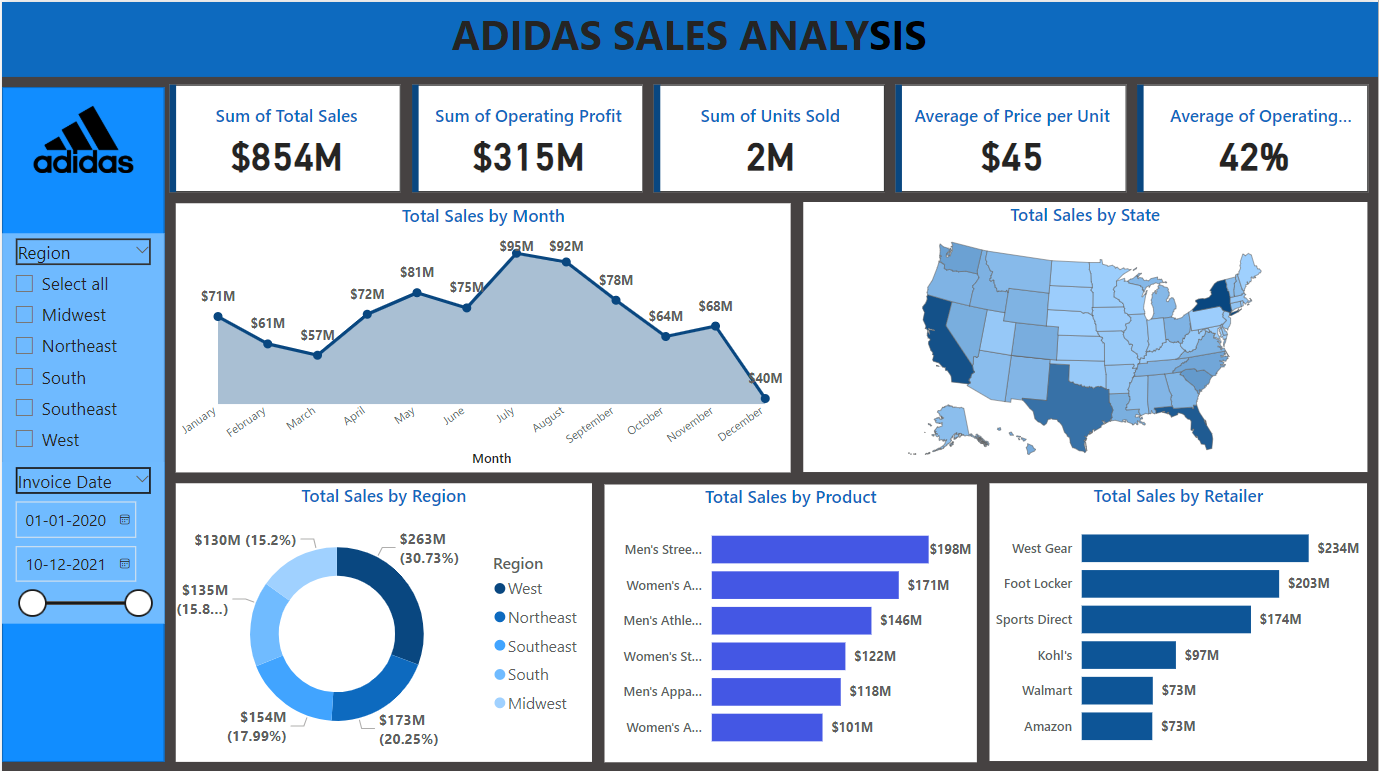

The page's visual inventory and layout, read from the dashboard file:
{"tool":"powerbi","page":{"name":"Page 1","canvas":[1280,720],"ordinal":0},"visuals":[{"type":"shape","box":[0,0,1280.5,69.5],"z":0},{"type":"shape","box":[0,79.1,151.2,627.9],"z":1000},{"type":"textbox","box":[406.1,0,467.1,70.7],"z":2000},{"type":"image","box":[7,91.9,137.2,72.1],"z":3000},{"type":"cardVisual","fields":{"Data":["Sum(Data Sales Adidas.Total Sales)","Sum(Data Sales Adidas.Operating Profit)","Sum(Data Sales Adidas.Units Sold)","Avg(Data Sales Adidas.Price per Unit)","Avg(Data Sales Adidas.Operating Margin)"]},"box":[151.2,72.1,1129.1,110.5],"z":4000},{"type":"areaChart","title":"Total Sales by Month","fields":{"Y":["Sum(Data Sales Adidas.Total Sales)"],"Category":["Data Sales Adidas.Invoice Date.Variation.Date Hierarchy.Month"]},"box":[161.6,187.2,572.1,250],"z":5000},{"type":"shapeMap","title":"Total Sales by State","fields":{"Category":["Data Sales Adidas.State"],"Value":["Sum(Data Sales Adidas.Total Sales)"]},"box":[745.4,186,524.4,251.2],"z":6000},{"type":"donutChart","title":"Total Sales by Region","fields":{"Category":["Data Sales Adidas.Region"],"Y":["Sum(Data Sales Adidas.Total Sales)"]},"box":[161.6,447.7,387.2,259.3],"z":7000},{"type":"clusteredBarChart","title":"Total Sales by Product","fields":{"Y":["Sum(Data Sales Adidas.Total Sales)"],"Category":["Data Sales Adidas.Product"]},"box":[560.5,449.3,346.5,258.1],"z":8000},{"type":"clusteredBarChart","title":"Total Sales by Retailer","fields":{"Y":["Sum(Data Sales Adidas.Total Sales)"],"Category":["Data Sales Adidas.Retailer"]},"box":[918.6,448.1,351.2,258.1],"z":9000},{"type":"slicer","fields":{"Values":["Data Sales Adidas.Region"]},"box":[0,215.1,151.2,212.8],"z":10000},{"type":"slicer","fields":{"Values":["Data Sales Adidas.Invoice Date"]},"box":[0,427.9,151.2,150],"z":11000}]}

Visuals, with their boxes in screenshot pixels (x1, y1, x2, y2), scaled from the page's 1280x720 canvas onto the 1380x771 screenshot:
shape: [x1=0, y1=0, x2=1379, y2=74]
shape: [x1=0, y1=85, x2=163, y2=757]
textbox: [x1=438, y1=0, x2=941, y2=76]
image: [x1=8, y1=98, x2=155, y2=176]
cardVisual - Sum(Data Sales Adidas.Total Sales) x Sum(Data Sales Adidas.Operating Profit): [x1=163, y1=77, x2=1379, y2=196]
"Total Sales by Month" areaChart: [x1=174, y1=200, x2=791, y2=468]
"Total Sales by State" shapeMap: [x1=804, y1=199, x2=1369, y2=468]
"Total Sales by Region" donutChart: [x1=174, y1=479, x2=592, y2=757]
"Total Sales by Product" clusteredBarChart: [x1=604, y1=481, x2=978, y2=758]
"Total Sales by Retailer" clusteredBarChart: [x1=990, y1=480, x2=1369, y2=756]
slicer - Data Sales Adidas.Region: [x1=0, y1=230, x2=163, y2=458]
slicer - Data Sales Adidas.Invoice Date: [x1=0, y1=458, x2=163, y2=619]
